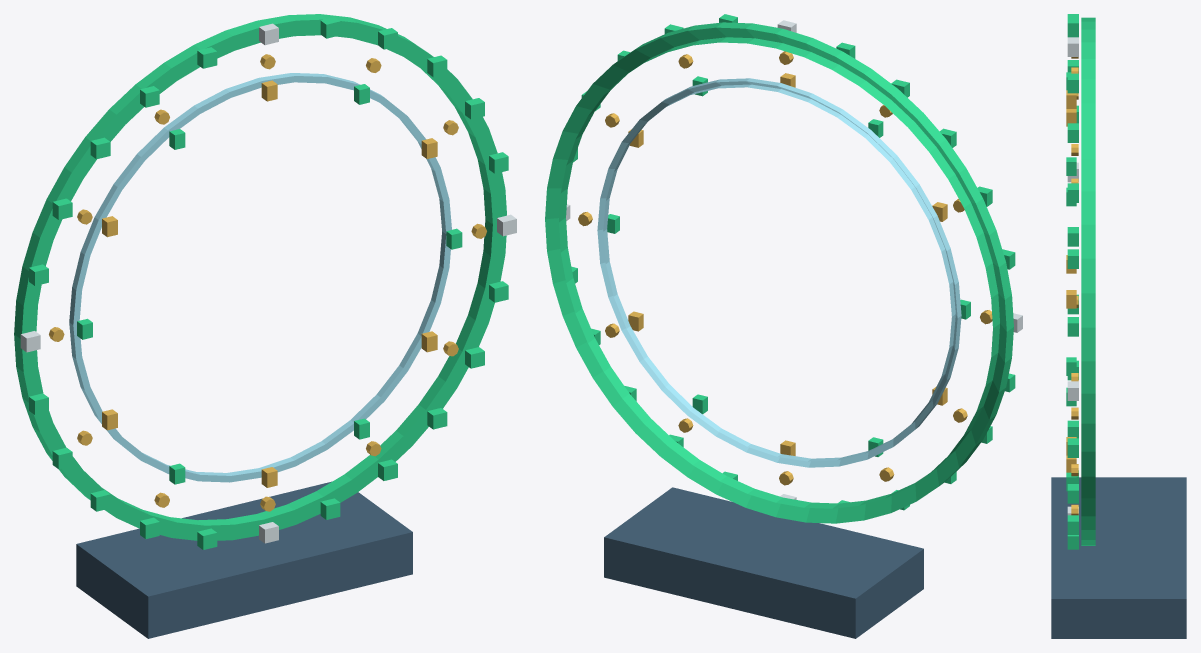
The model's file is 28_L80_MicroringResonatorChannelB.fbx.
The picture shows the model from 3 angles, left to right: view 1: azimuth 30°, elevation 25°; view 2: azimuth 150°, elevation 25°; view 3: azimuth 270°, elevation 25°; orthographic projection. The views are drawn at different scales.
Visible parts, largest first — view 1: MicroringResonatorChannelB_Part_0038, MicroringResonatorChannelB_Part_0000, MicroringResonatorChannelB_Part_0001; view 2: MicroringResonatorChannelB_Part_0000, MicroringResonatorChannelB_Part_0038, MicroringResonatorChannelB_Part_0001; view 3: MicroringResonatorChannelB_Part_0038, MicroringResonatorChannelB_Part_0000, MicroringResonatorChannelB_Part_0007, MicroringResonatorChannelB_Part_0002, MicroringResonatorChannelB_Part_0003, MicroringResonatorChannelB_Part_0004, MicroringResonatorChannelB_Part_0005, MicroringResonatorChannelB_Part_0006, MicroringResonatorChannelB_Part_0008, MicroringResonatorChannelB_Part_0009, MicroringResonatorChannelB_Part_0015, MicroringResonatorChannelB_Part_0023 (+2 smaller).
Boxes of the visible parts, x1=… form: MicroringResonatorChannelB_Part_0038: x1=76, y1=481, x2=412, y2=638; MicroringResonatorChannelB_Part_0000: x1=14, y1=14, x2=506, y2=540; MicroringResonatorChannelB_Part_0001: x1=69, y1=73, x2=451, y2=482; MicroringResonatorChannelB_Part_0000: x1=545, y1=22, x2=1013, y2=523; MicroringResonatorChannelB_Part_0038: x1=604, y1=487, x2=923, y2=638; MicroringResonatorChannelB_Part_0001: x1=597, y1=78, x2=961, y2=467; MicroringResonatorChannelB_Part_0038: x1=1051, y1=477, x2=1186, y2=638; MicroringResonatorChannelB_Part_0000: x1=1081, y1=17, x2=1095, y2=545; MicroringResonatorChannelB_Part_0007: x1=1067, y1=73, x2=1078, y2=93; MicroringResonatorChannelB_Part_0002: x1=1067, y1=381, x2=1078, y2=400; MicroringResonatorChannelB_Part_0003: x1=1067, y1=317, x2=1078, y2=336; MicroringResonatorChannelB_Part_0004: x1=1067, y1=249, x2=1078, y2=268; MicroringResonatorChannelB_Part_0005: x1=1067, y1=183, x2=1078, y2=202; MicroringResonatorChannelB_Part_0006: x1=1067, y1=123, x2=1078, y2=142; MicroringResonatorChannelB_Part_0008: x1=1067, y1=37, x2=1078, y2=56; MicroringResonatorChannelB_Part_0009: x1=1067, y1=17, x2=1078, y2=36; MicroringResonatorChannelB_Part_0015: x1=1067, y1=227, x2=1078, y2=246; MicroringResonatorChannelB_Part_0023: x1=1067, y1=515, x2=1078, y2=534.
Size of the model in its own units: 157 by 175 by 40.
